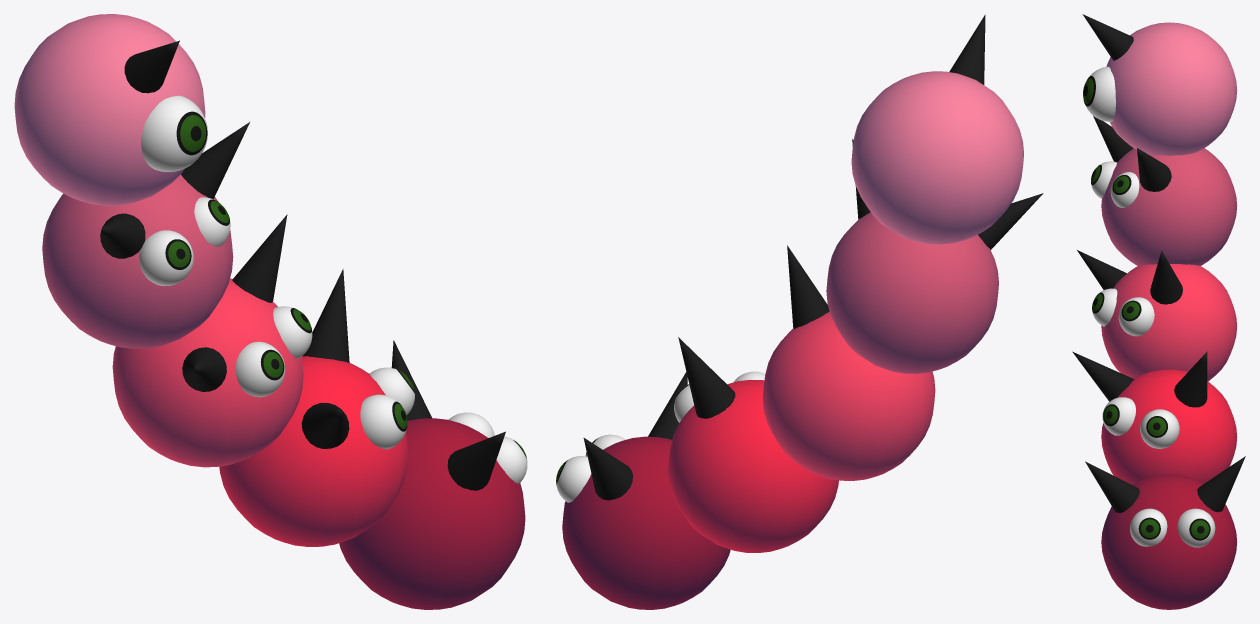
File: STRE.FBX
3 renders of one model, left to right at view 1: azimuth 30°, elevation 25°; view 2: azimuth 150°, elevation 25°; view 3: azimuth 270°, elevation 25°, orthographic. The views are drawn at different scales.
Parts seen in each view (by area): view 1: pSphere6, pSphere7, pSphere5, pSphere2, pSphere3, Sphere009, Sphere008, group2_pCone5, Sphere005, group1_pCone5, pCone4_group3, pCone3 (+10 smaller); view 2: pSphere6, pSphere5, pSphere3, pSphere2, pSphere7, group2_pCone5, group3_pCone5, group1_pCone5, pCone1, Sphere002, pCone2, pCone4_group3; view 3: pSphere6, pSphere7, pSphere5, pSphere3, pSphere2, Sphere009, Sphere003, group2_pCone5, Sphere002, pCone4_group3, group3_pCone5, Sphere001 (+11 smaller).
Boxes of the visible parts, x1,y1,x2,y2 form: pSphere6: [14, 14, 205, 205]; pSphere7: [339, 418, 525, 609]; pSphere5: [42, 175, 233, 348]; pSphere2: [219, 356, 408, 546]; pSphere3: [112, 278, 303, 467]; Sphere009: [141, 95, 207, 171]; Sphere008: [139, 230, 193, 285]; group2_pCone5: [302, 269, 349, 362]; Sphere005: [235, 341, 285, 397]; group1_pCone5: [232, 214, 287, 302]; pCone4_group3: [447, 431, 505, 490]; pCone3: [181, 122, 249, 199]; pSphere6: [851, 71, 1023, 244]; pSphere5: [826, 212, 998, 373]; pSphere3: [762, 311, 935, 480]; pSphere2: [668, 379, 838, 552]; pSphere7: [562, 436, 730, 609]; group2_pCone5: [678, 337, 735, 418]; group3_pCone5: [583, 438, 633, 500]; group1_pCone5: [787, 245, 829, 328]; pCone1: [949, 14, 985, 84]; Sphere002: [556, 456, 591, 502]; pCone2: [978, 193, 1043, 249]; pCone4_group3: [648, 372, 687, 439]; pSphere6: [1106, 22, 1237, 155]; pSphere7: [1101, 474, 1237, 609]; pSphere5: [1101, 148, 1237, 265]; pSphere3: [1101, 264, 1237, 381]; pSphere2: [1101, 369, 1237, 484]; Sphere009: [1083, 66, 1115, 121]; Sphere003: [1140, 409, 1179, 448]; group2_pCone5: [1174, 351, 1207, 407]; Sphere002: [1177, 508, 1215, 547]; pCone4_group3: [1085, 461, 1139, 512]; group3_pCone5: [1197, 456, 1245, 512]; Sphere001: [1130, 508, 1167, 546].
Size of the model in its own units: 49.57 by 66.39 by 21.7.
